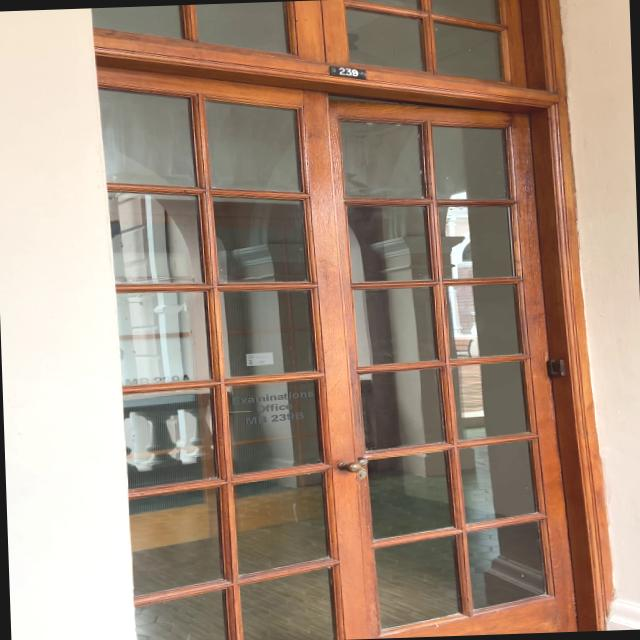room239: (318, 62, 368, 82)
